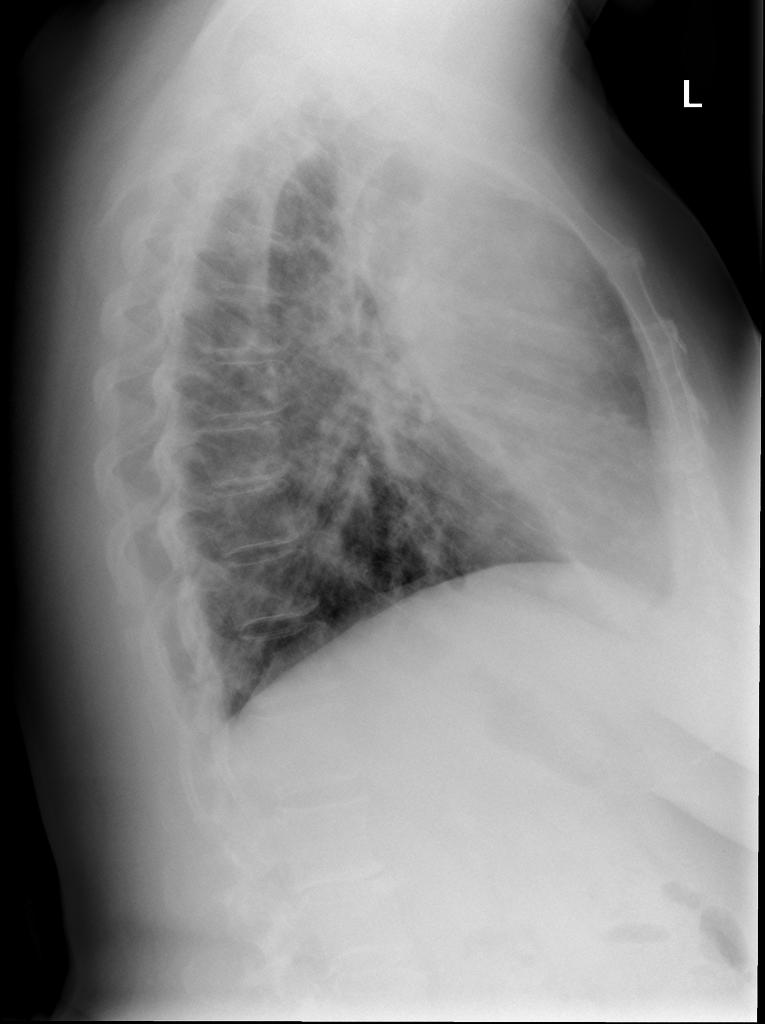cancer: (187, 210, 536, 582)
